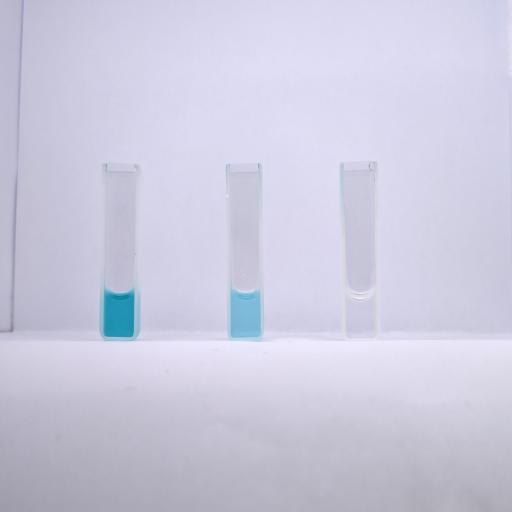cuvette: (98, 162, 142, 342), (338, 159, 381, 343), (225, 161, 265, 342)
liquid: (104, 289, 135, 337), (230, 289, 260, 337), (345, 292, 376, 338)
